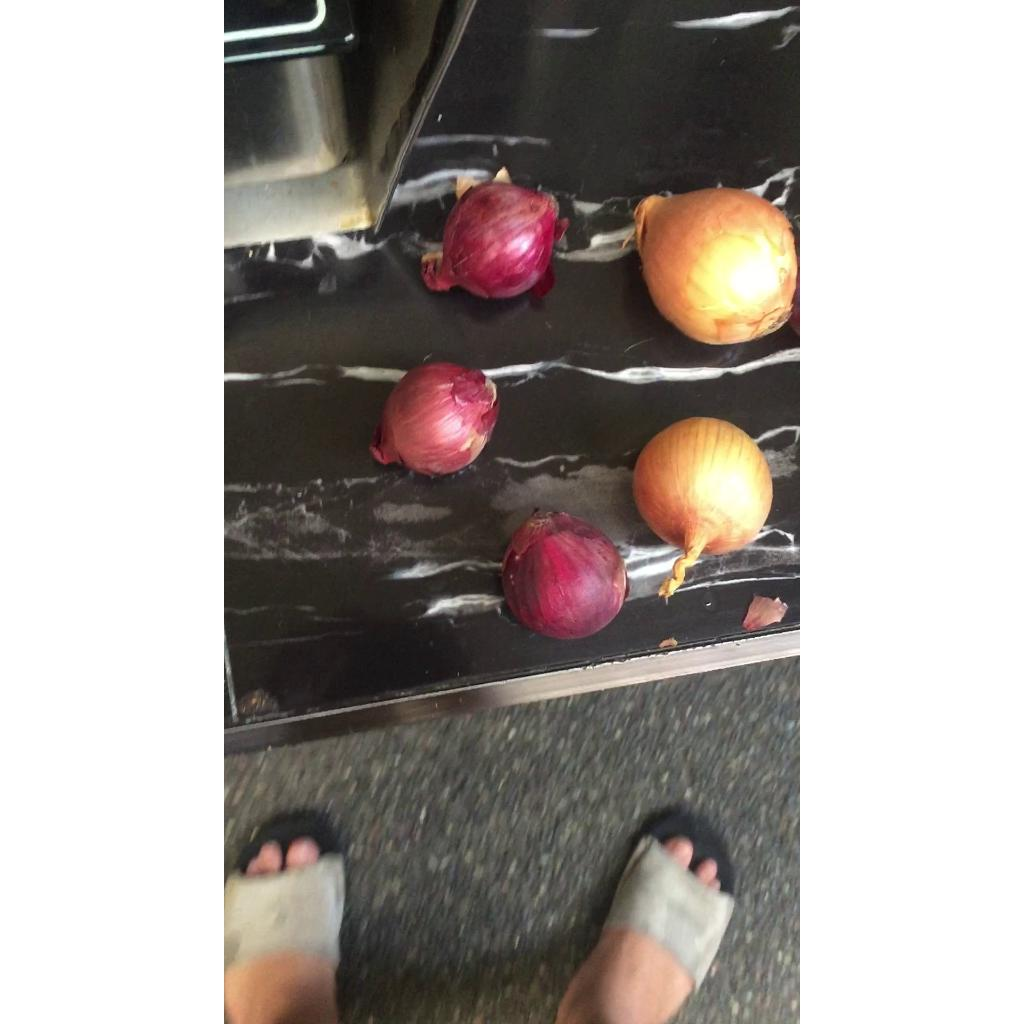Onion: (635, 187, 798, 344), (633, 417, 772, 597), (420, 168, 568, 297), (502, 510, 628, 640), (369, 362, 498, 475)
